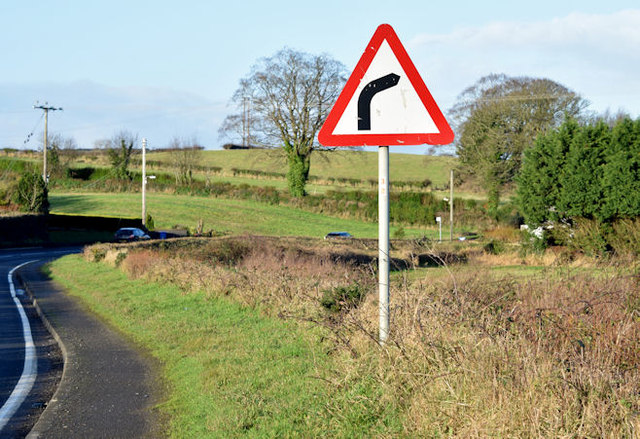Bend_to_right: (307, 19, 460, 155)
